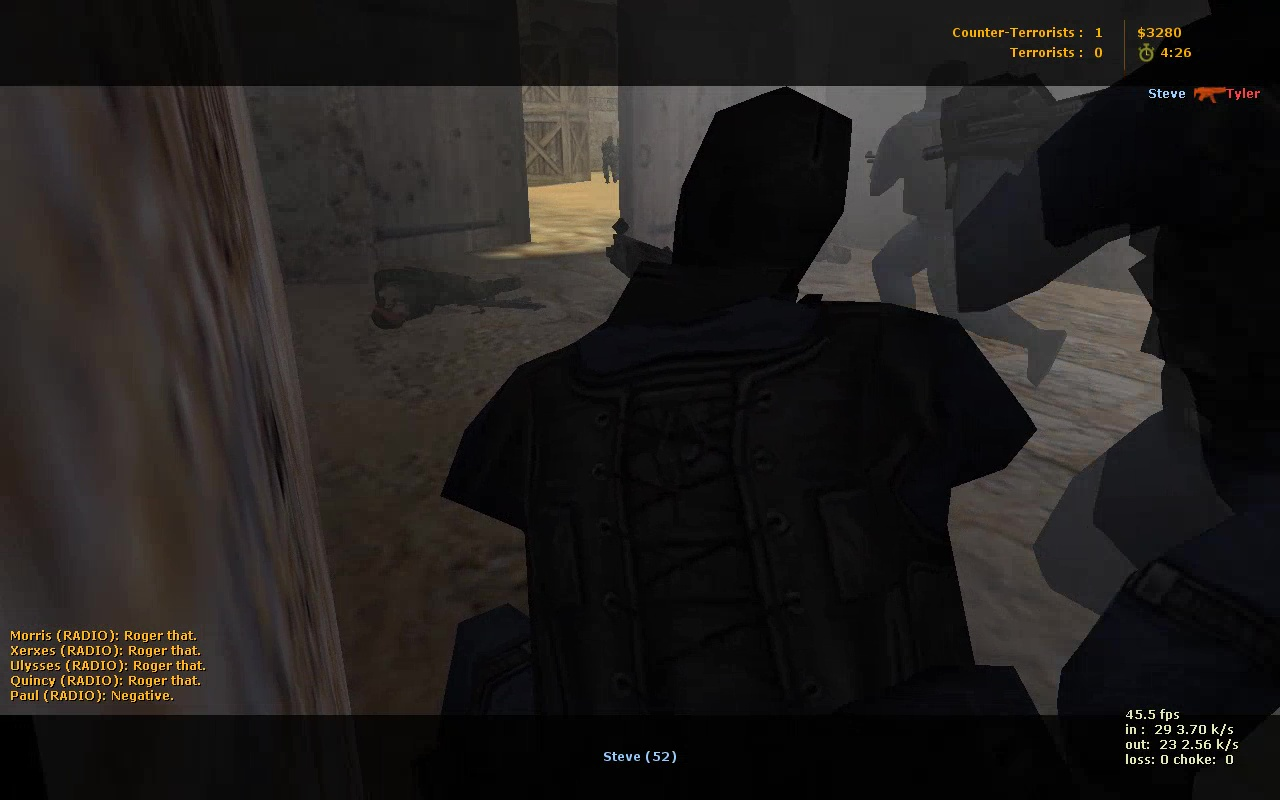dead: (375, 263, 538, 326)
